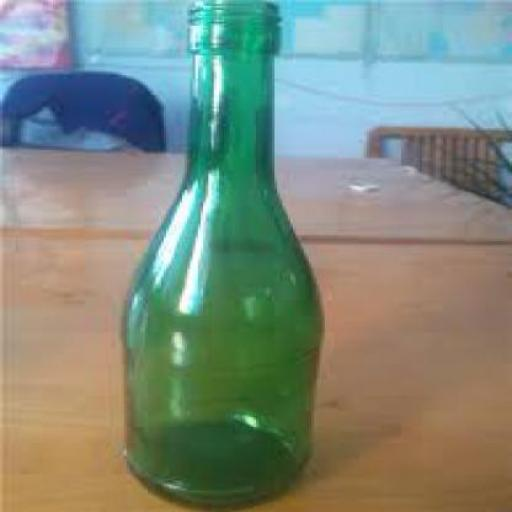glass: (116, 0, 320, 511)
